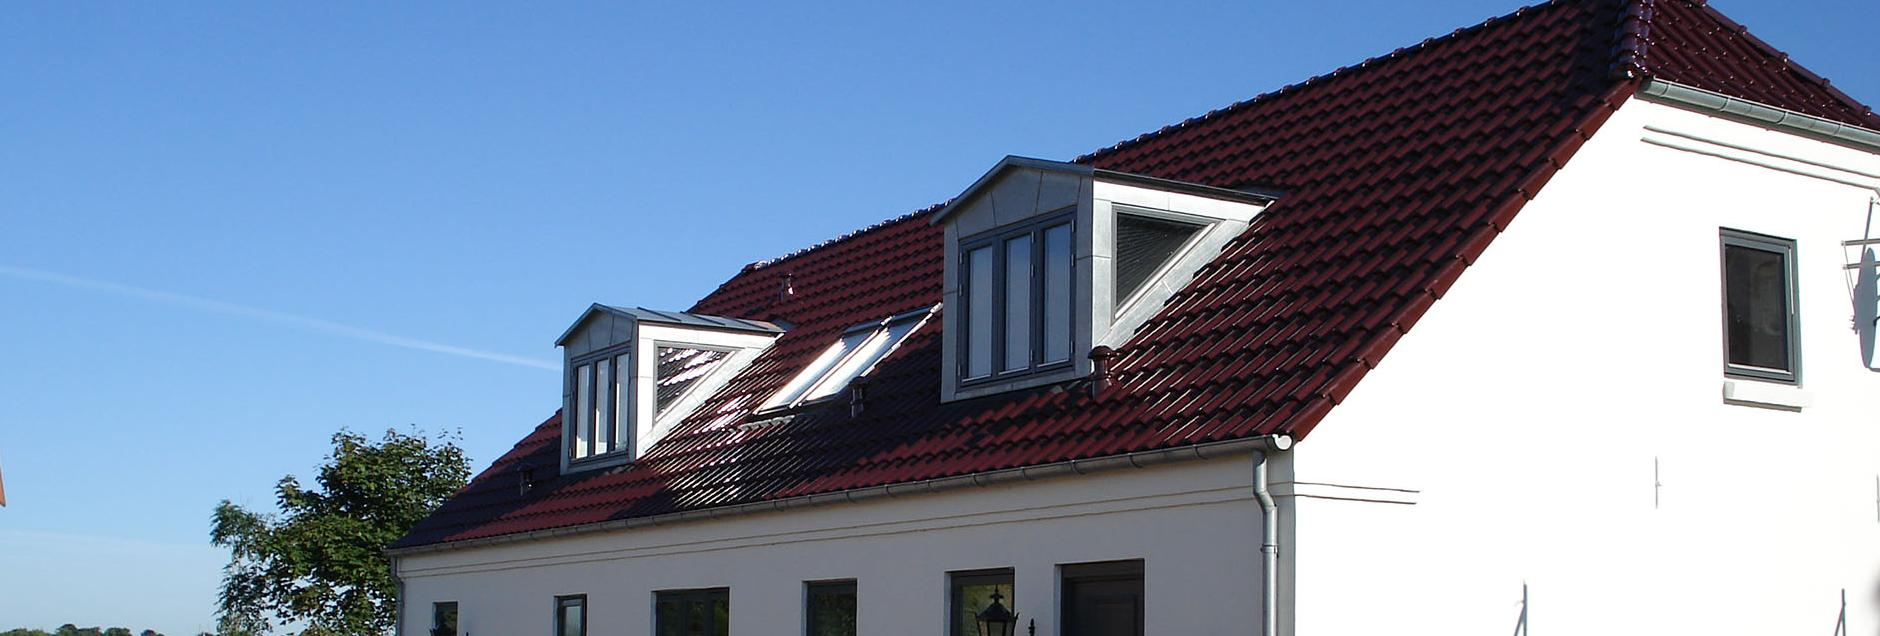kvist windows: (920, 143, 1315, 428), (538, 287, 814, 496)
